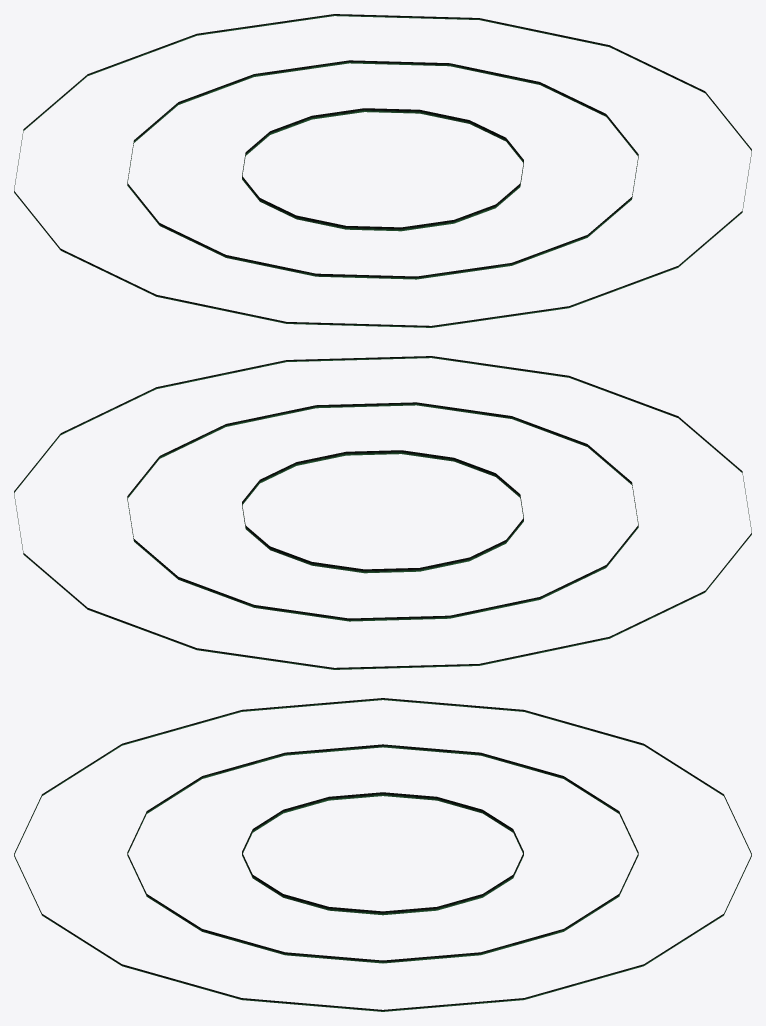
The model's file is nox_portal_bottom.obj.
3 renders of one model, top to bottom at view 1: azimuth 30°, elevation 25°; view 2: azimuth 150°, elevation 25°; view 3: azimuth 270°, elevation 25°, orthographic.
Visible parts, largest first — view 1: nox_portal_bottom; view 2: nox_portal_bottom; view 3: nox_portal_bottom.
Boxes of the visible parts, <box> form: nox_portal_bottom: <box>14,14,751,327</box>; nox_portal_bottom: <box>14,356,751,669</box>; nox_portal_bottom: <box>14,698,751,1011</box>.
Bounding box in the file's own units: 12.04 × 0.076 × 12.04.
Materials: 1 (1 with a texture image).
